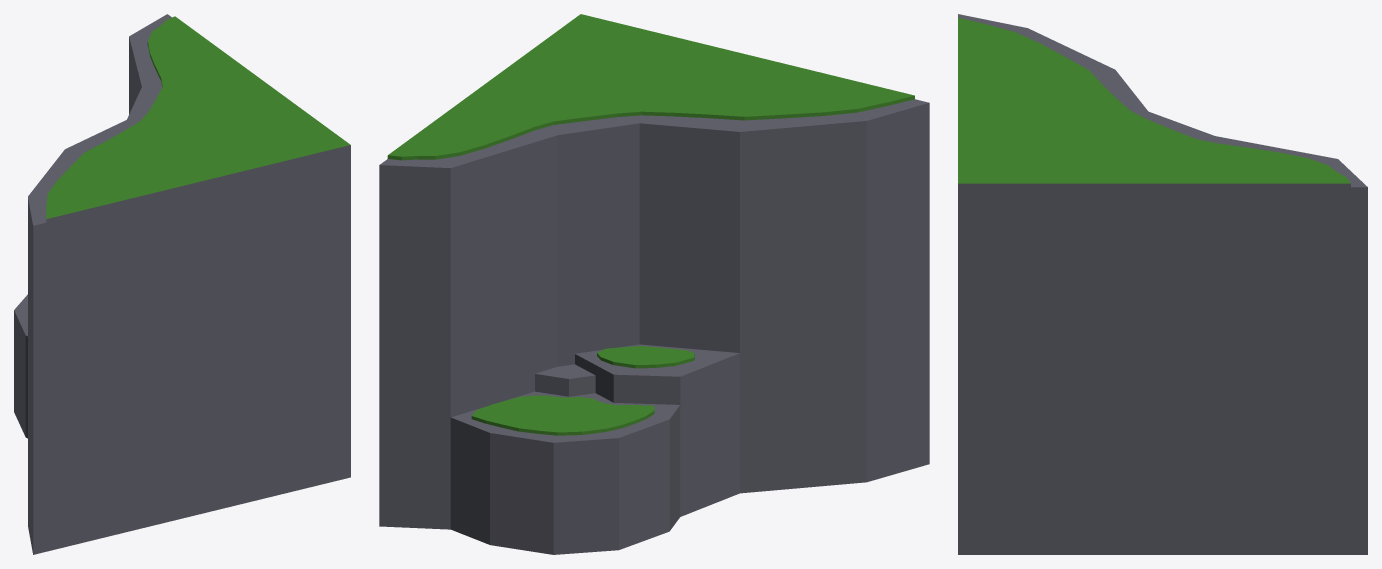
File: Corner2v2.fbx
3 views of the same model, side by side, from view 1: azimuth 30°, elevation 25°; view 2: azimuth 150°, elevation 25°; view 3: azimuth 270°, elevation 25° (orthographic). The views are drawn at different scales.
Visible parts, largest first — view 1: Plane.028; view 2: Plane.028; view 3: Plane.028.
Part boxes in pixels (box(x1,y1,x2,y2)): Plane.028: box(14, 14, 350, 554); Plane.028: box(379, 14, 929, 554); Plane.028: box(958, 14, 1367, 554).
Size of the model in its own units: 75 by 75 by 75.
